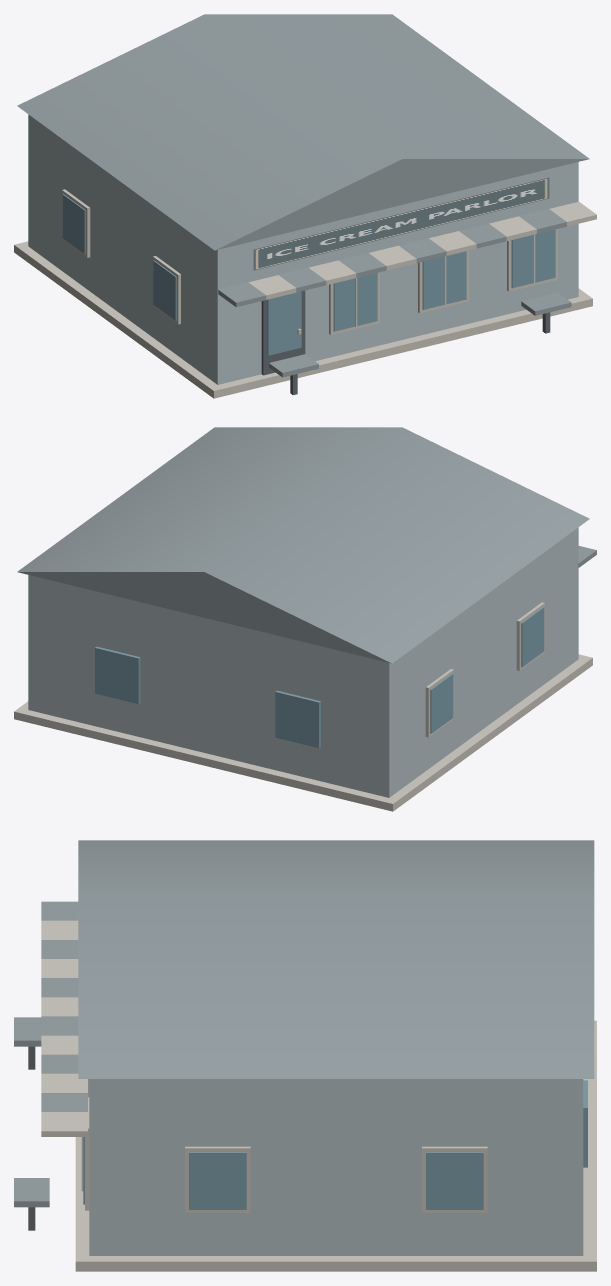
Rendered from ice_cream_parlor.glb.
The picture shows the model from 3 angles, top to bottom: view 1: azimuth 30°, elevation 25°; view 2: azimuth 150°, elevation 25°; view 3: azimuth 270°, elevation 25°; orthographic projection. The views are drawn at different scales.
Visible parts, largest first — view 1: world; view 2: world; view 3: world.
Part boxes in pixels (bbox=[...]): world: bbox=[14, 14, 596, 398]; world: bbox=[14, 427, 596, 811]; world: bbox=[14, 840, 596, 1271].
Bounding box in the file's own units: 10.4 × 5.05 × 10.62.
2 materials, 1 textured.
